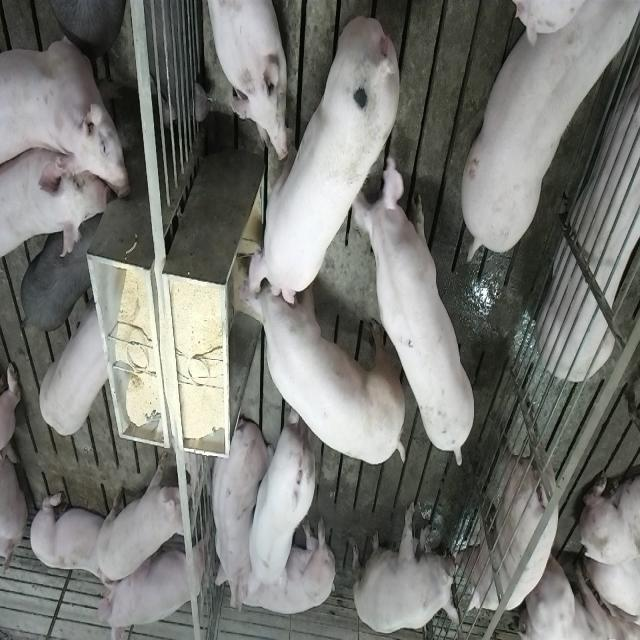Feeding: (245, 16, 403, 306), (240, 260, 410, 473)
Lateral_lying: (226, 518, 336, 622)
Sitting: (352, 498, 460, 634), (96, 542, 204, 638)
Standing: (457, 6, 635, 264), (358, 158, 480, 464), (2, 32, 134, 204), (456, 412, 558, 614), (248, 402, 316, 592), (96, 452, 196, 578), (4, 144, 110, 262), (38, 299, 112, 436), (20, 215, 104, 332), (38, 0, 124, 50)
Sternal_lying: (540, 44, 640, 380), (202, 0, 288, 158), (28, 486, 122, 592)
